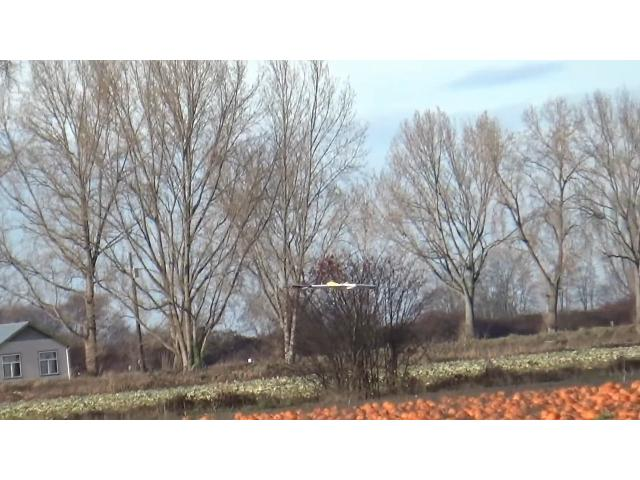Anti-Drone: (290, 281, 374, 289)
